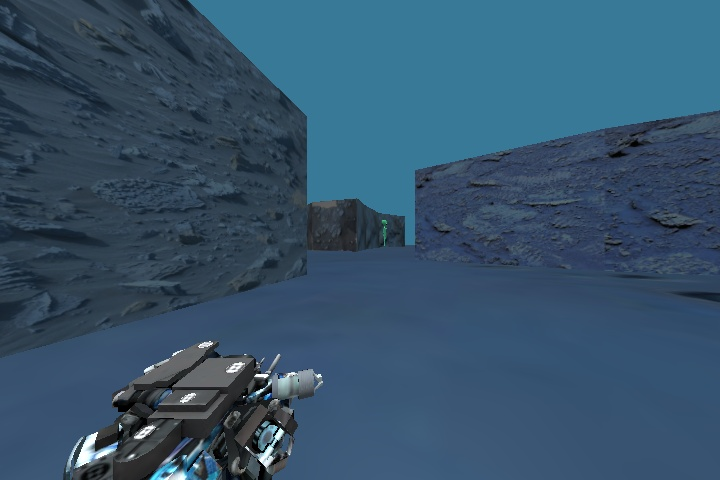green_alien: (374, 217, 392, 246)
